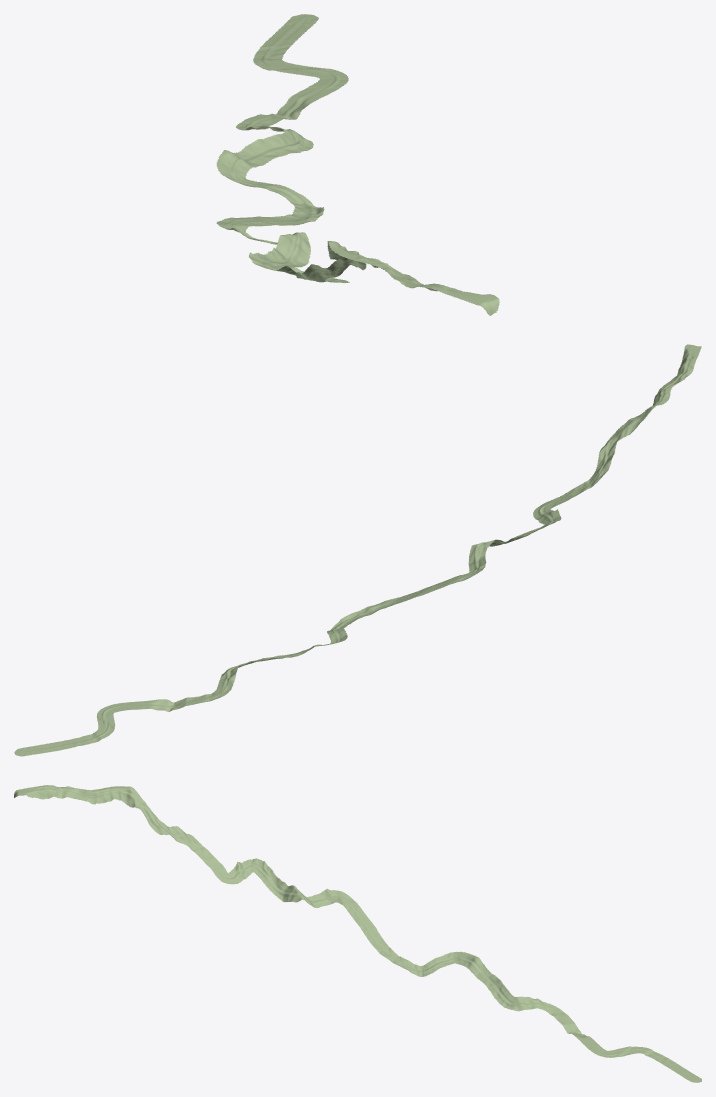
Rendered from corridor-v4-mobile.glb.
The picture shows the model from 3 angles, top to bottom: view 1: azimuth 30°, elevation 25°; view 2: azimuth 150°, elevation 25°; view 3: azimuth 270°, elevation 25°; orthographic projection. The views are drawn at different scales.
Parts seen in each view (by area): view 1: Trail / 10 6, Trail / 8 9, Trail / 11 4, Trail / 12 3, Trail / 8 11, Trail / 10 7, Trail / 8 13, Trail / 7 12, Trail / 9 8, Trail / 11 5, Trail / 9 6, Trail / 12 4 (+1 smaller); view 2: Trail / 8 11, Trail / 8 10, Trail / 12 3; view 3: Trail / 8 10, Trail / 8 9, Trail / 10 6, Trail / 8 11, Trail / 7 12, Trail / 9 8, Trail / 10 5, Trail / 10 7.
Boxes of the visible parts, x1,y1,x2,y2 form: Trail / 10 6: (230, 129, 312, 174); Trail / 8 9: (234, 228, 310, 267); Trail / 11 4: (255, 59, 338, 114); Trail / 12 3: (260, 14, 318, 59); Trail / 8 11: (296, 251, 366, 282); Trail / 10 7: (258, 182, 324, 216); Trail / 8 13: (421, 283, 499, 315); Trail / 7 12: (327, 241, 410, 279); Trail / 9 8: (236, 215, 319, 226); Trail / 11 5: (249, 97, 322, 138); Trail / 9 6: (216, 150, 248, 180); Trail / 12 4: (293, 64, 348, 88); Trail / 8 11: (577, 417, 636, 487); Trail / 8 10: (527, 484, 594, 532); Trail / 12 3: (14, 734, 91, 756); Trail / 8 10: (200, 843, 263, 884); Trail / 8 9: (263, 861, 327, 907); Trail / 10 6: (462, 959, 517, 1007); Trail / 8 11: (137, 804, 200, 857); Trail / 7 12: (73, 786, 136, 807); Trail / 9 8: (345, 908, 390, 959); Trail / 10 5: (517, 996, 568, 1016); Trail / 10 7: (390, 960, 449, 976).
Size of the model in its own units: 649 by 373 by 1388.
